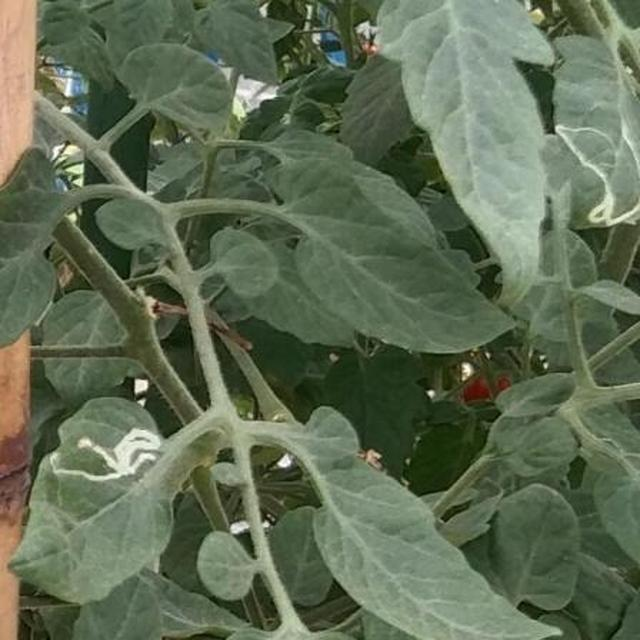Leaf Miner: (133, 129, 640, 640)
